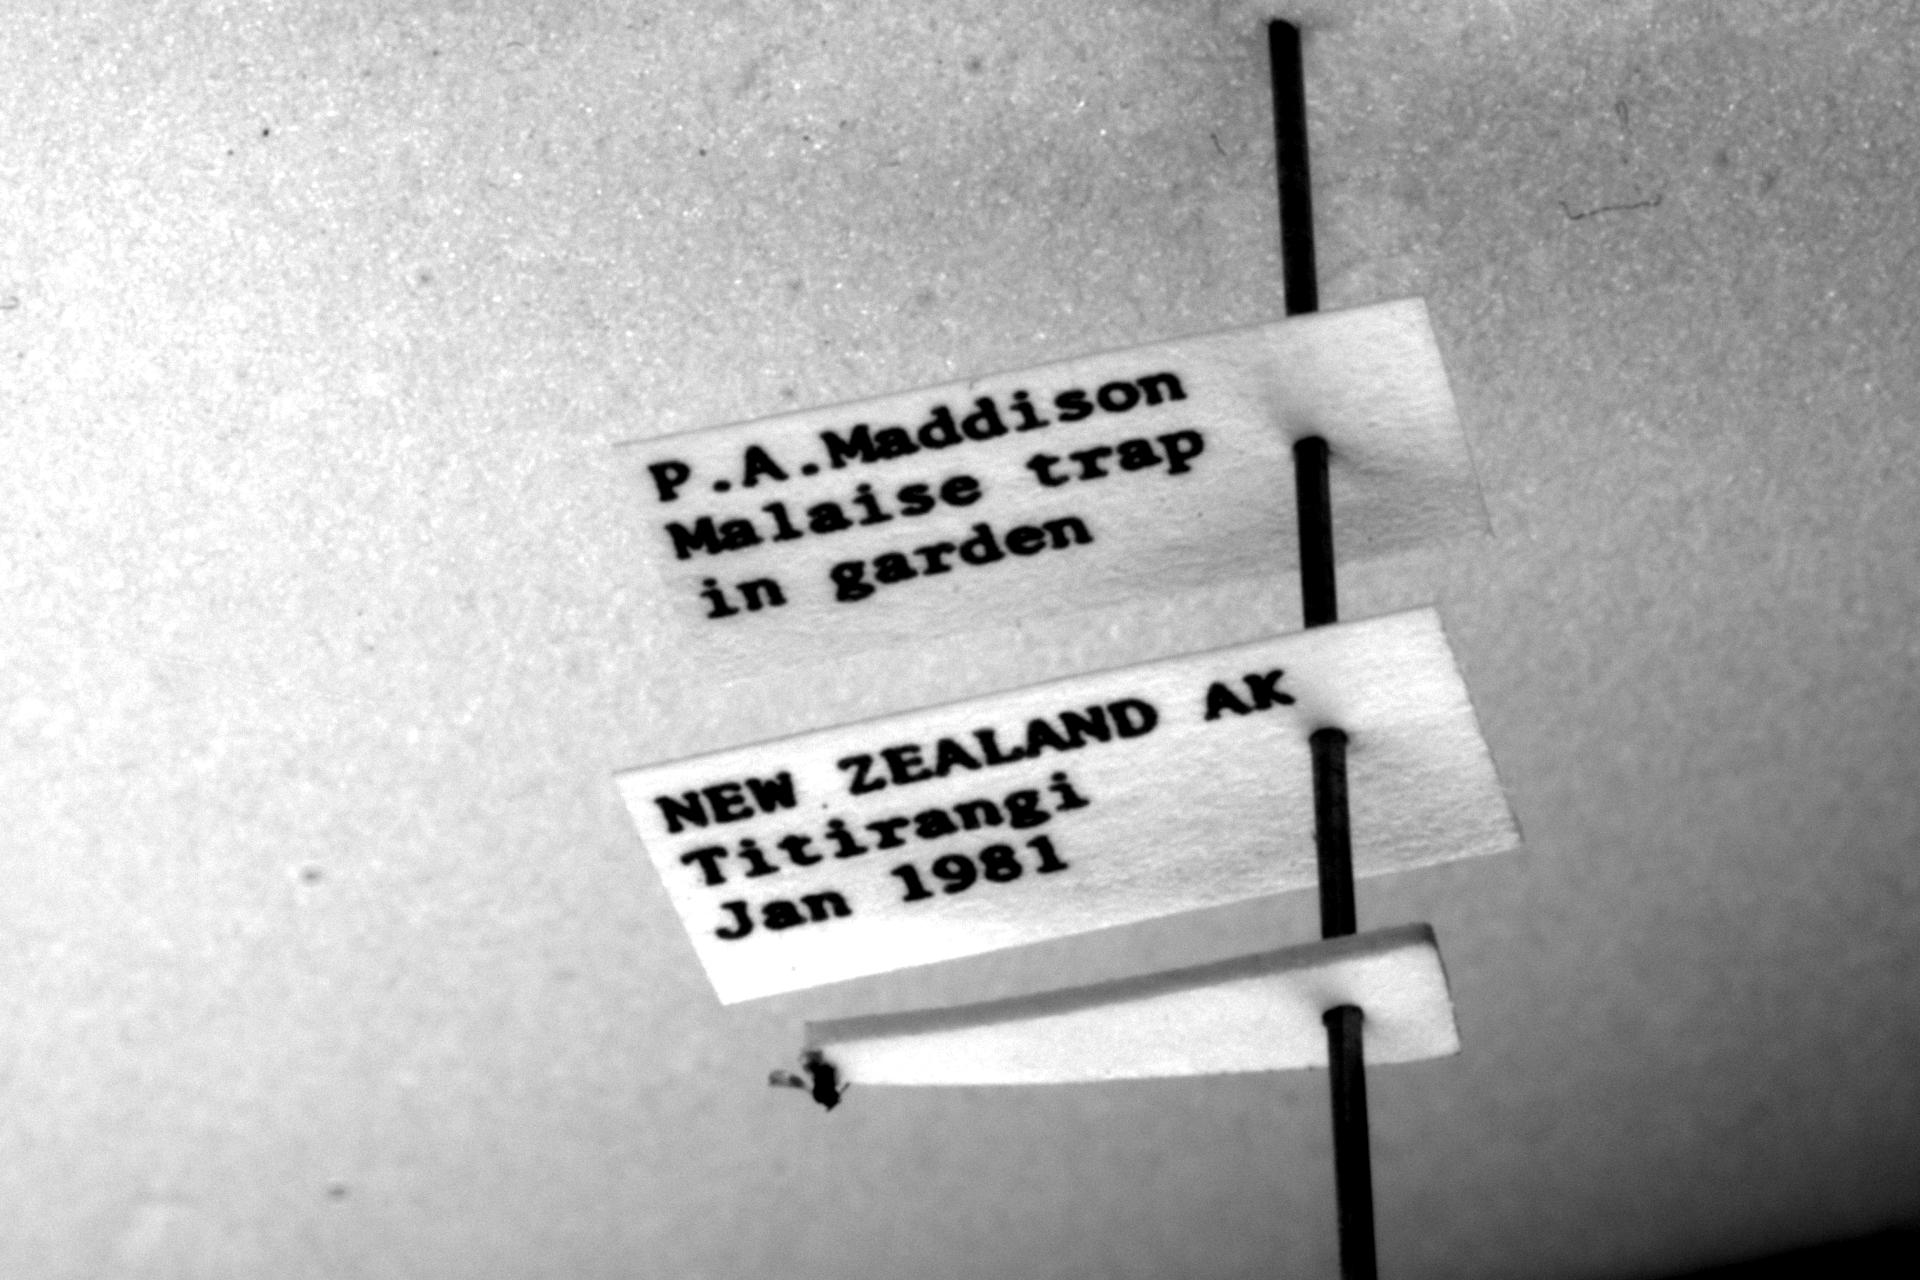typed_label: (619, 607, 1519, 1001), (619, 300, 1489, 683)
